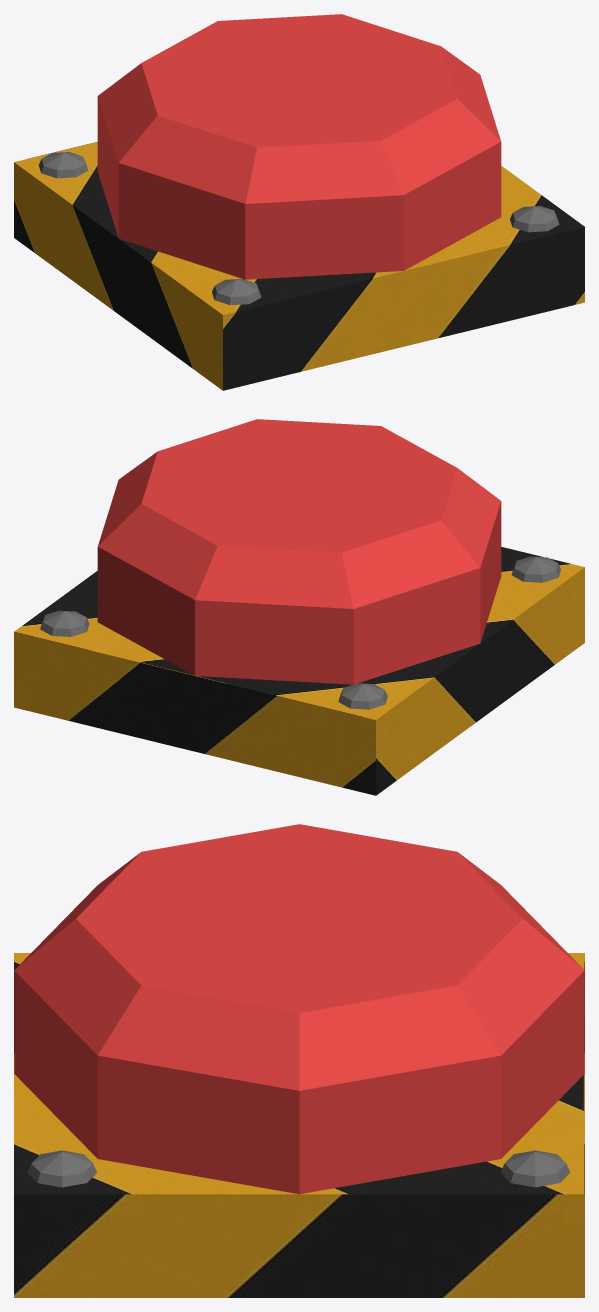
The model's file is button.glb.
The picture shows the model from 3 angles, top to bottom: view 1: azimuth 30°, elevation 25°; view 2: azimuth 150°, elevation 25°; view 3: azimuth 270°, elevation 25°; orthographic projection. The views are drawn at different scales.
Visible parts, largest first — view 1: Top, Bottom; view 2: Top, Bottom; view 3: Top, Bottom.
Part boxes in pixels (box(x1,y1,x2,y2)): Top: box(97, 14, 501, 279); Bottom: box(14, 142, 584, 390); Top: box(97, 419, 501, 684); Bottom: box(14, 547, 584, 795); Top: box(14, 824, 584, 1194); Bottom: box(14, 953, 584, 1297).
Bounding box in the file's own units: 0.05 × 0.025 × 0.05.
Materials: 3 (1 with a texture image).
